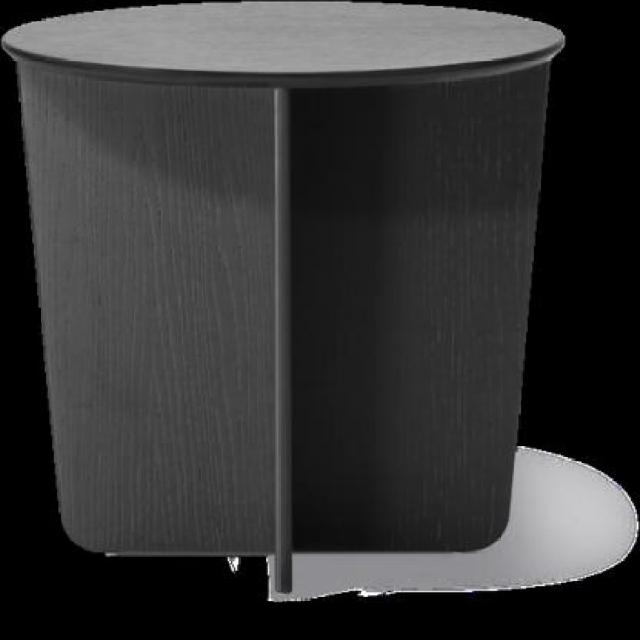table: (2, 0, 566, 597)
